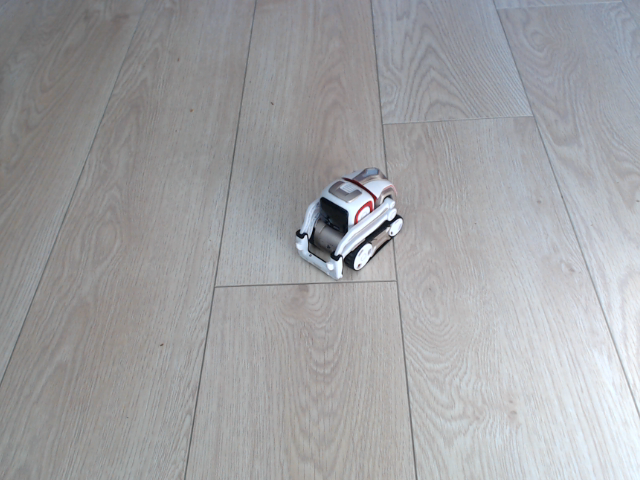cozmo: (290, 165, 409, 285)
